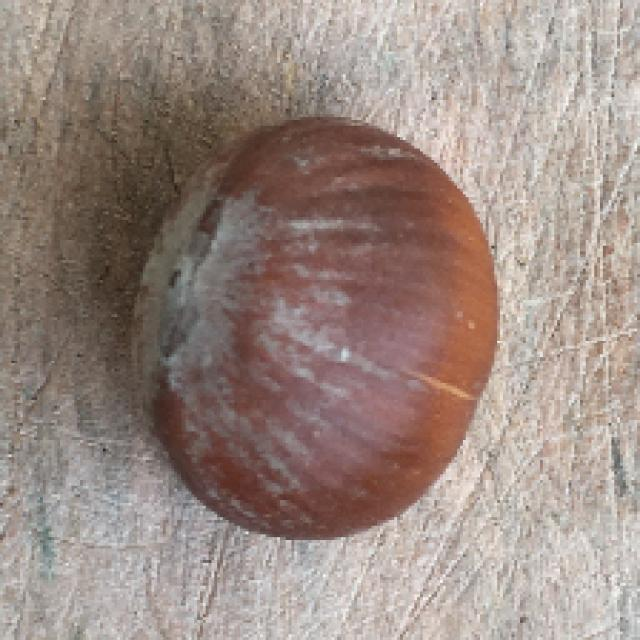qualityHazelnut: (127, 106, 500, 545)
